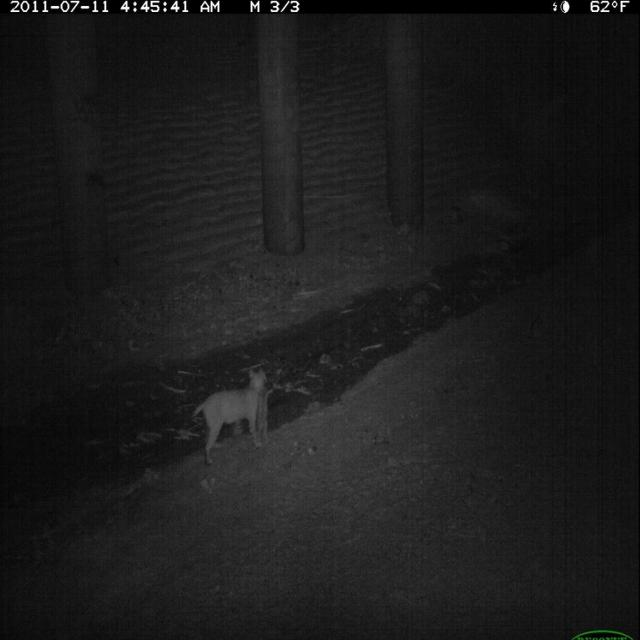bobcat: (184, 362, 283, 477)
rabbit: (258, 382, 276, 448)
